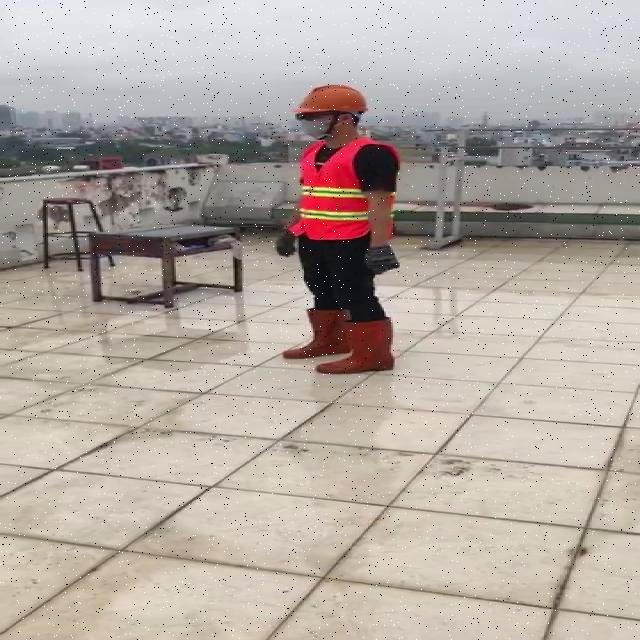Hard_hat: (290, 81, 376, 122)
Person: (272, 77, 420, 377)
Vest: (294, 134, 373, 241)
